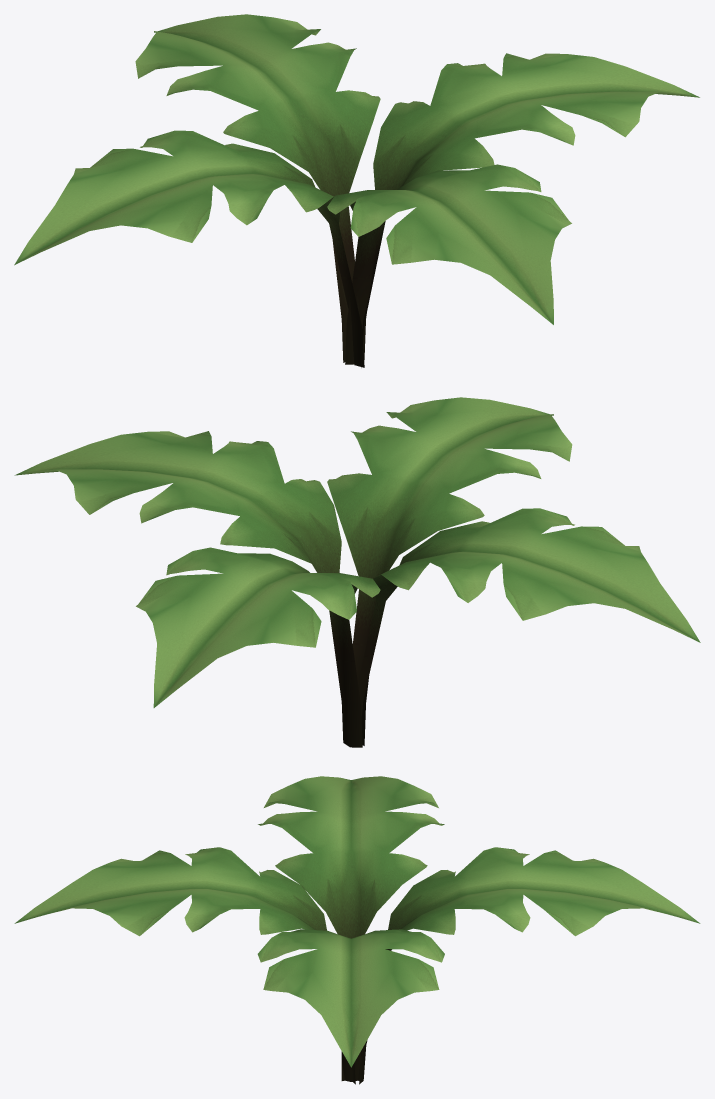
The model's file is Carrot_Stage_1.fbx.
3 renders of one model, top to bottom at view 1: azimuth 30°, elevation 25°; view 2: azimuth 150°, elevation 25°; view 3: azimuth 270°, elevation 25°, orthographic. The views are drawn at different scales.
Parts seen in each view (by area): view 1: Plane.003; view 2: Plane.003; view 3: Plane.003.
Boxes of the visible parts, x1,y1,x2,y2 form: Plane.003: [14, 14, 699, 367]; Plane.003: [14, 397, 700, 747]; Plane.003: [14, 776, 700, 1084].
Bounding box in the file's own units: 66.97 × 21.88 × 67.59.
Materials: 1 (1 with a texture image).
